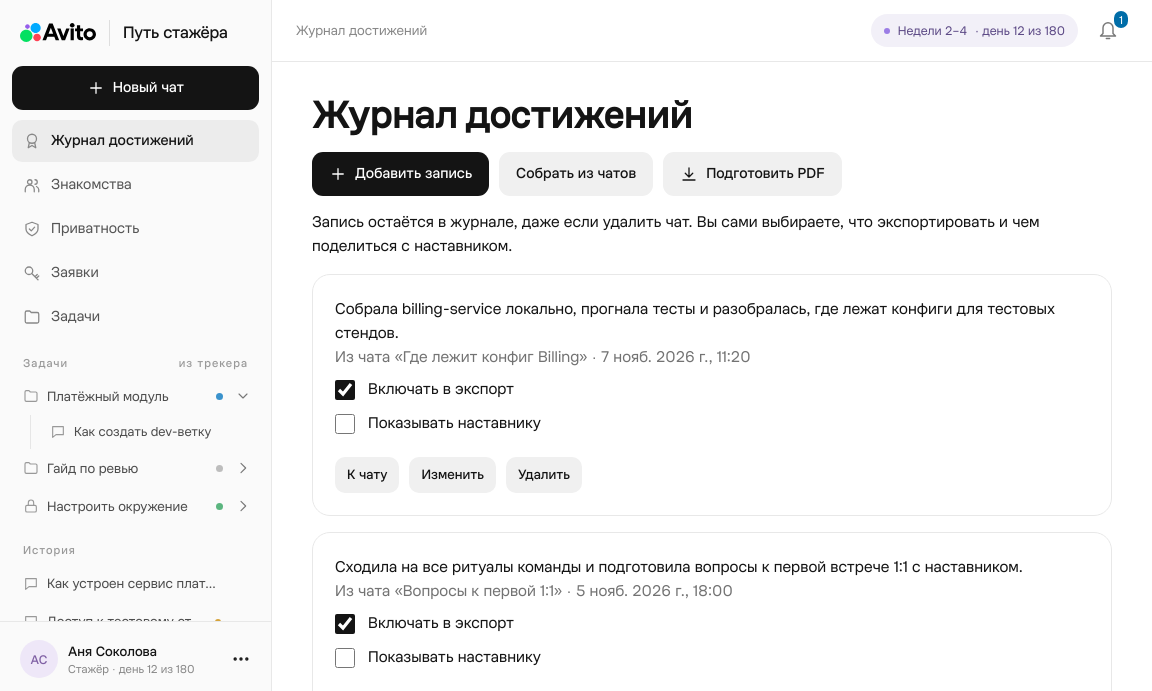
it: Journal page › collects suggestions from chats and saves selected items
Click the button "Собрать из чатов": coordinates (576, 174) 499,152 -> 653,196
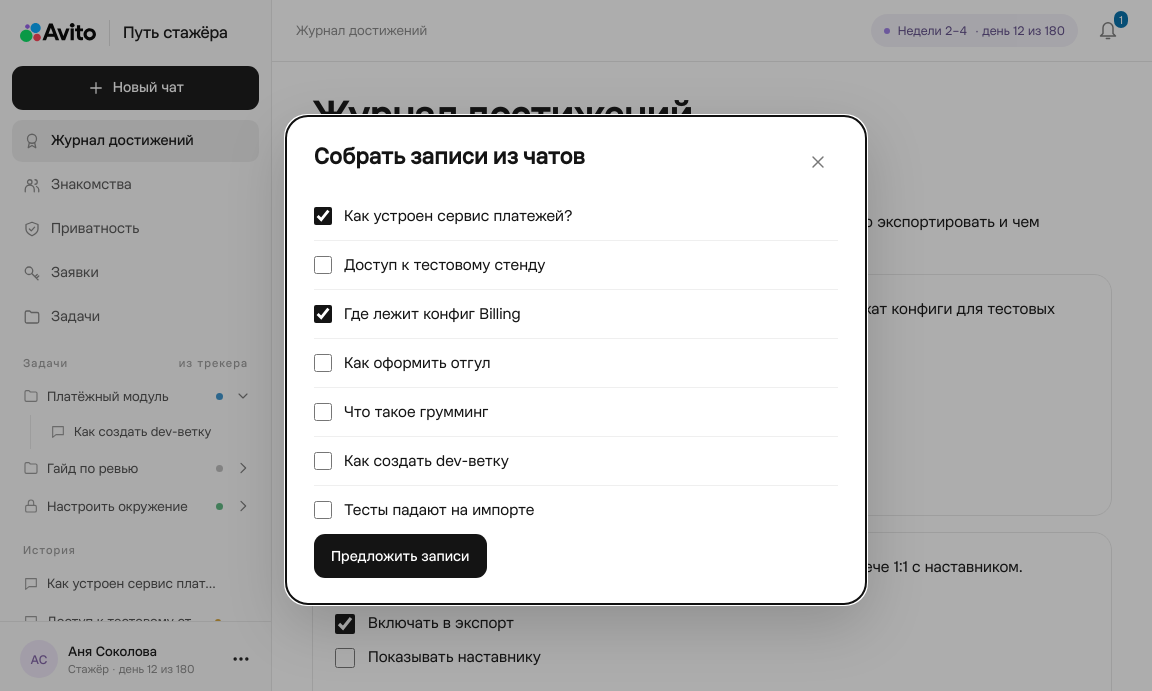
Check: the dialog "Собрать записи из чатов" is shown, box 286,116 -> 866,604
Check: the button "Предложить записи" is enabled
Click the button "Предложить записи": coordinates (400, 556) 314,534 -> 486,578
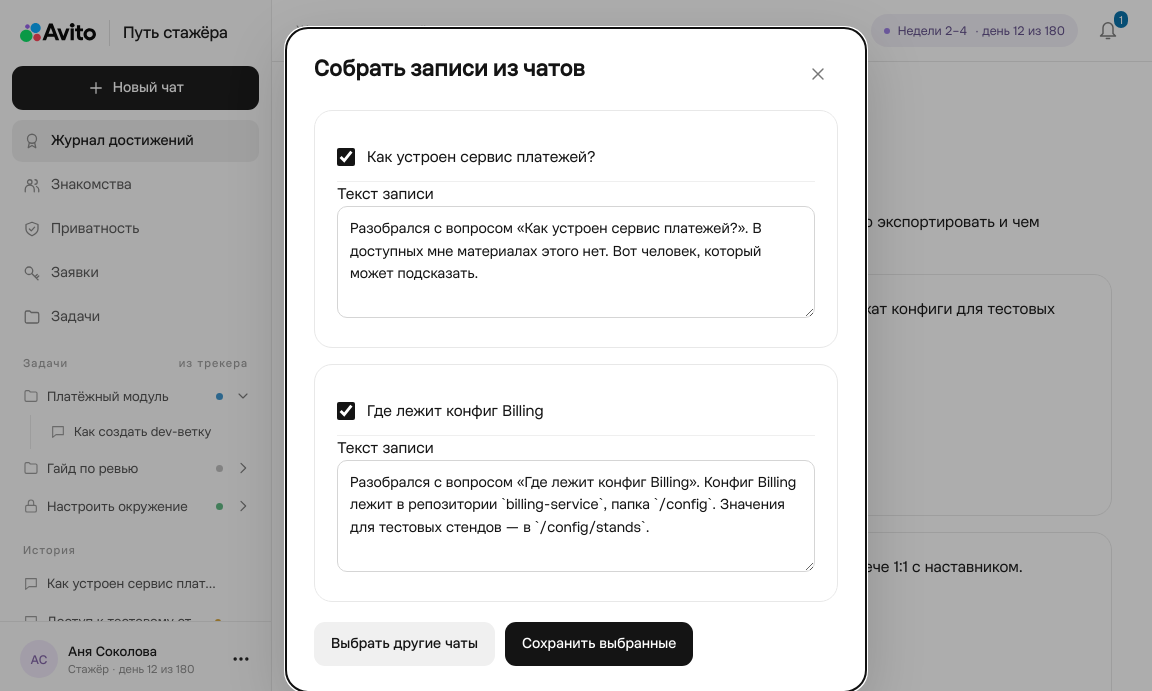
Replace the text in the 1st text box labelled "Текст записи" with "Разобрал сервис платежей": coordinates (576, 262) 337,206 -> 815,318
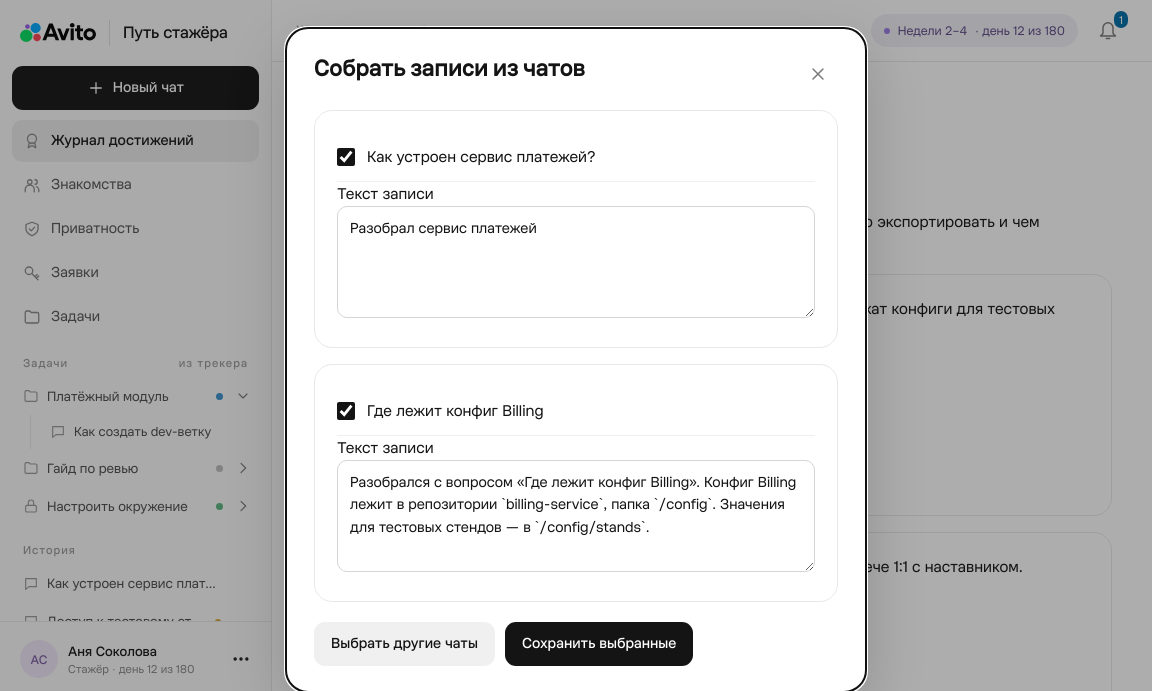
Check: the button "Сохранить выбранные" is enabled
Click the button "Сохранить выбранные": coordinates (599, 644) 505,622 -> 693,666
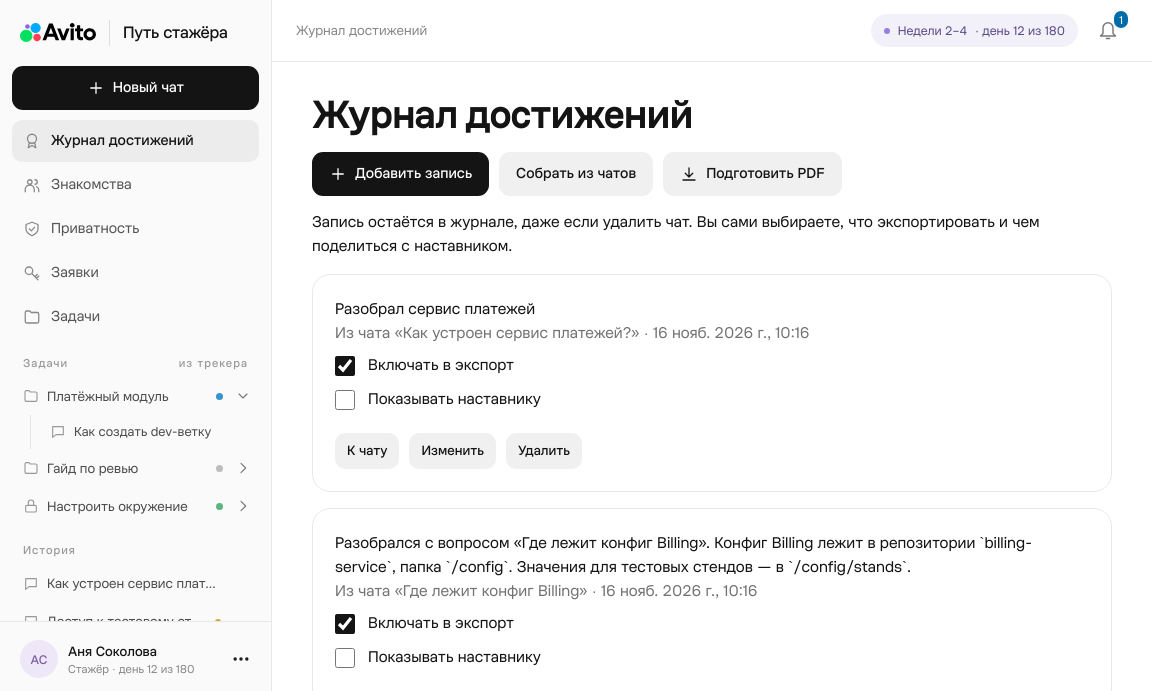
Check: the text "Разобрал сервис платежей" is shown, box 335,298 -> 535,319
